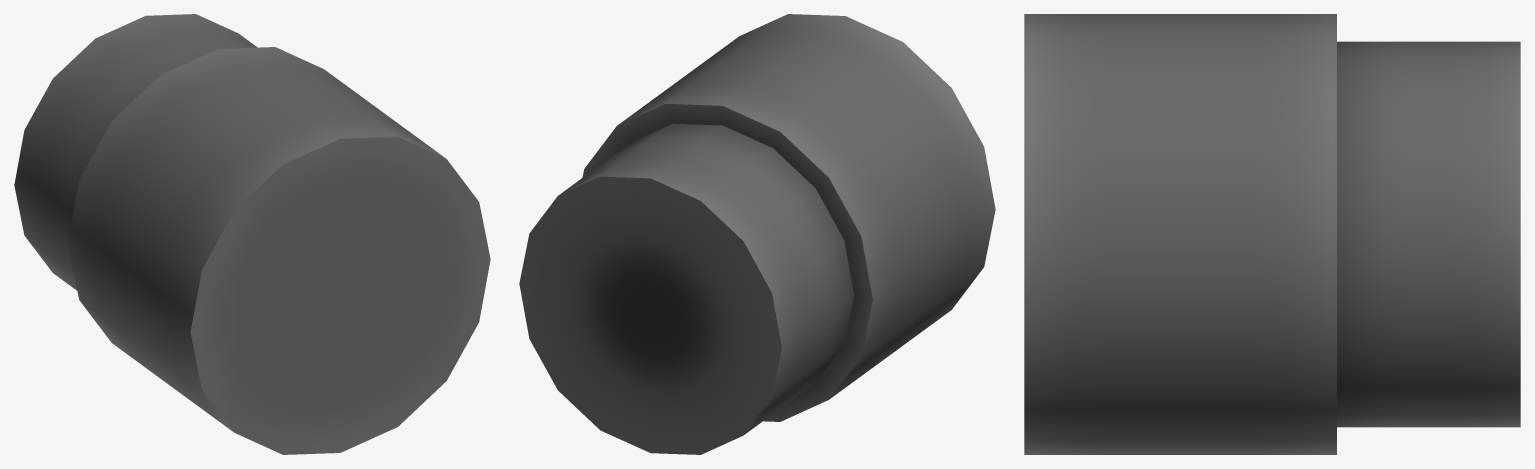
Rendered from Eridani_Solar_1_Base.obj.
3 renders of one model, left to right at view 1: azimuth 30°, elevation 25°; view 2: azimuth 150°, elevation 25°; view 3: azimuth 270°, elevation 25°, orthographic. The views are drawn at different scales.
Parts seen in each view (by area): view 1: Eridani_Solar_1_Base; view 2: Eridani_Solar_1_Base; view 3: Eridani_Solar_1_Base.
Boxes of the visible parts, x1=… form: Eridani_Solar_1_Base: x1=14, y1=14, x2=490, y2=454; Eridani_Solar_1_Base: x1=519, y1=14, x2=995, y2=454; Eridani_Solar_1_Base: x1=1024, y1=14, x2=1520, y2=454.
Bounding box in the file's own units: 0.12 × 0.12 × 0.135.
